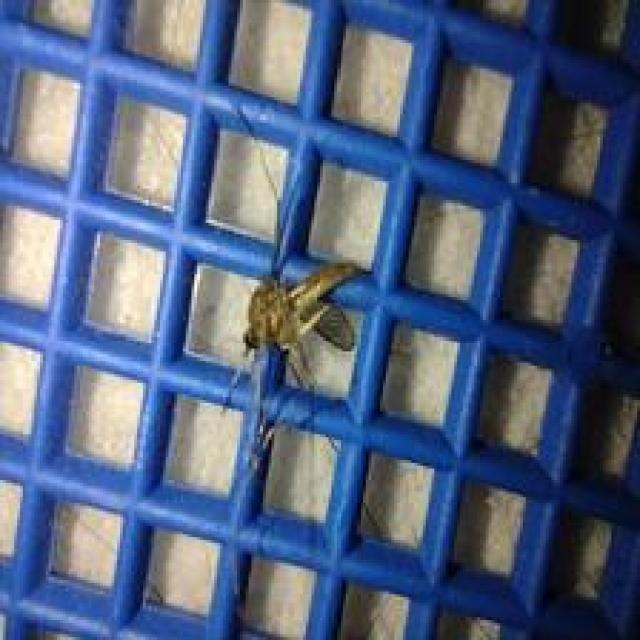Culex: (239, 257, 364, 392)
